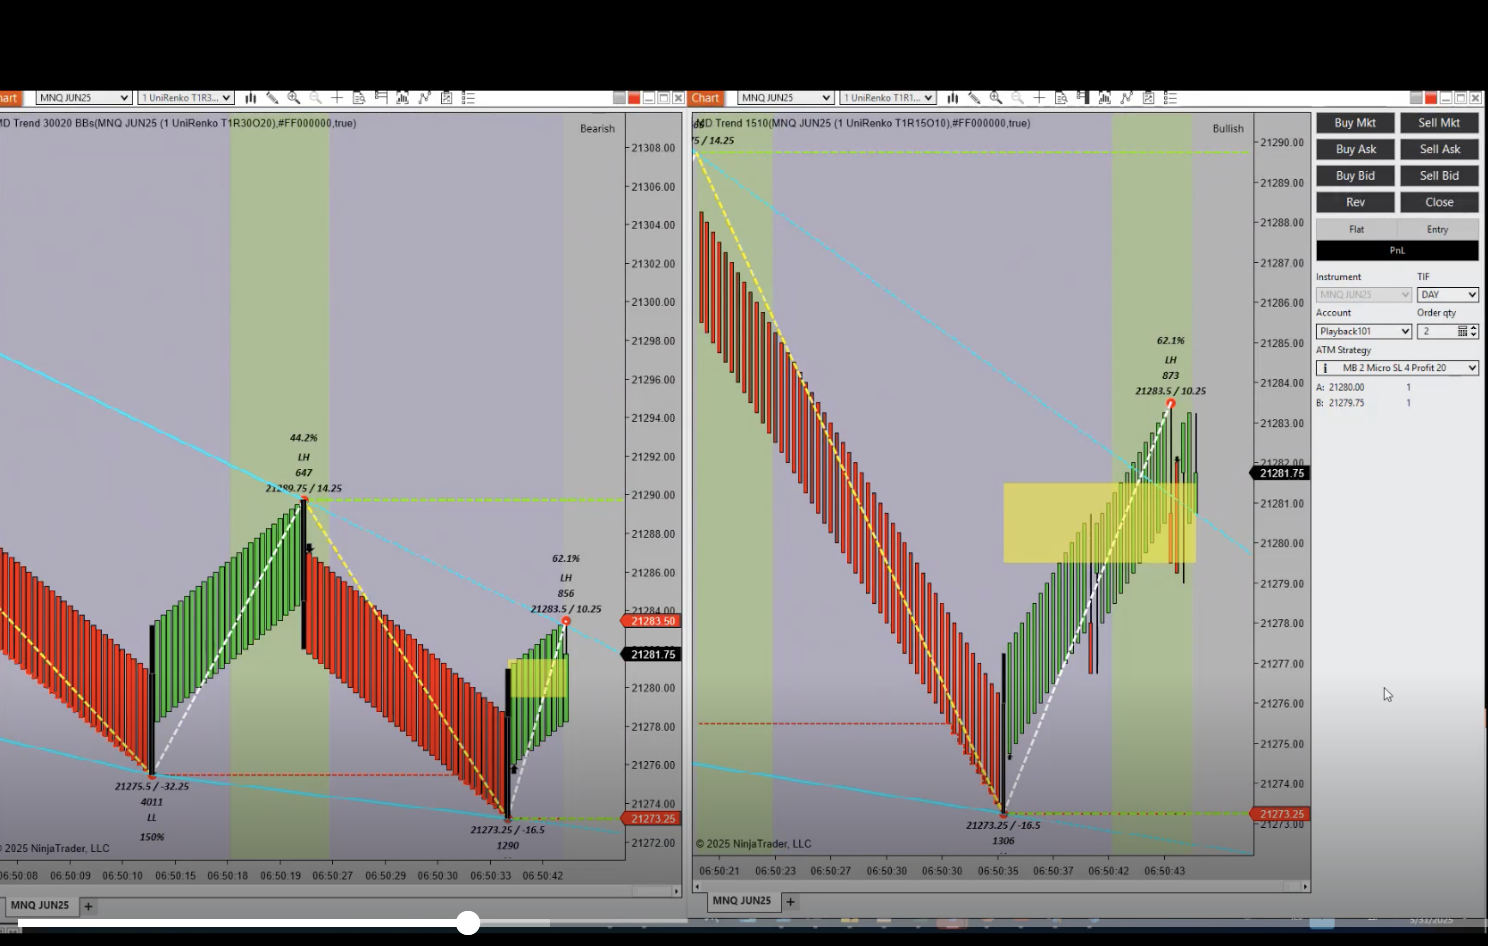candle: (147, 625, 159, 780), (505, 668, 516, 824), (297, 498, 307, 656), (1001, 655, 1006, 820)
